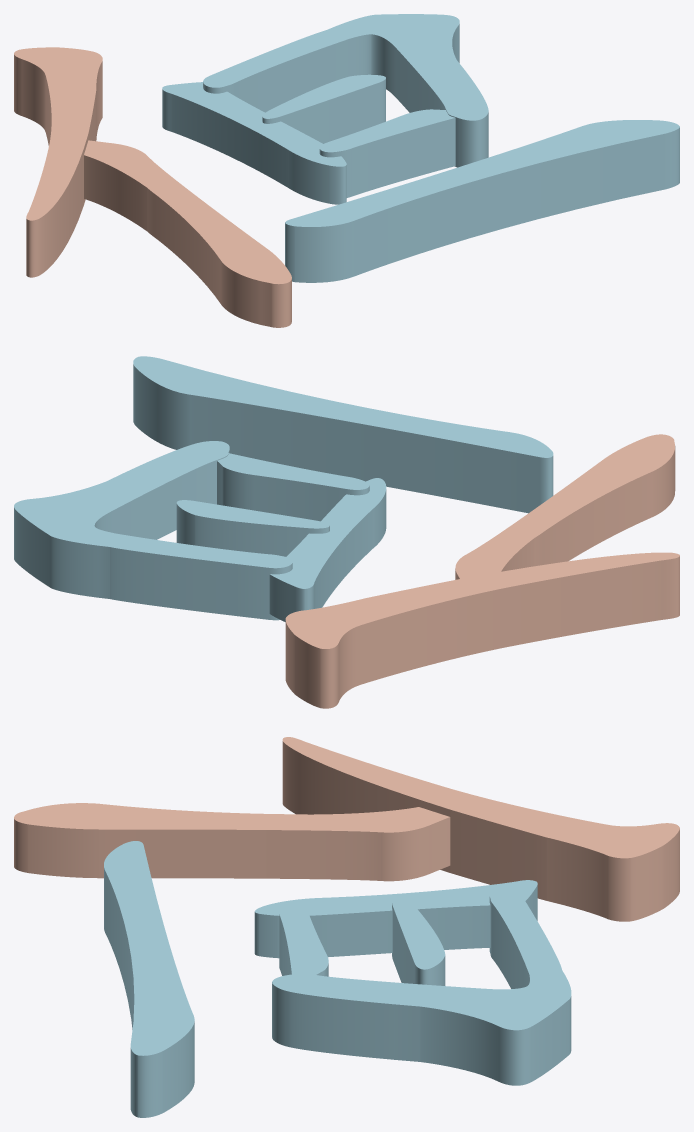
Rendered from hanzi34.fbx.
The picture shows the model from 3 angles, top to bottom: view 1: azimuth 30°, elevation 25°; view 2: azimuth 150°, elevation 25°; view 3: azimuth 270°, elevation 25°; orthographic projection. The views are drawn at different scales.
Visible parts, largest first — view 1: Curve.006, Curve.003, Curve.001, Curve, Curve.002, Curve.005, Curve.004; view 2: Curve.006, Curve, Curve.003, Curve.001, Curve.002, Curve.005, Curve.004; view 3: Curve.003, Curve, Curve.001, Curve.006, Curve.002, Curve.004, Curve.005.
Boxes of the visible parts, x1,y1,x2,y2 form: Curve.006: (285,120,679,282); Curve.003: (203,14,488,167); Curve.001: (84,140,291,327); Curve: (14,47,102,277); Curve.002: (162,82,346,204); Curve.005: (319,109,455,197); Curve.004: (262,74,385,143); Curve.006: (133,356,553,513); Curve: (285,552,679,708); Curve.003: (14,441,292,620); Curve.001: (455,434,675,579); Curve.002: (269,478,386,621); Curve.005: (217,453,369,521); Curve.004: (176,500,329,556); Curve.003: (272,890,571,1085); Curve: (282,737,679,921); Curve.001: (14,803,450,881); Curve.006: (104,841,194,1117); Curve.002: (254,880,537,958); Curve.004: (392,897,445,985); Curve.005: (279,902,328,976).
Bounding box in the file's own units: 25.79 × 22.81 × 2.4.
